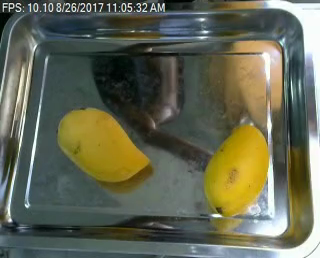Mango: (58, 102, 153, 187), (196, 119, 273, 215)
